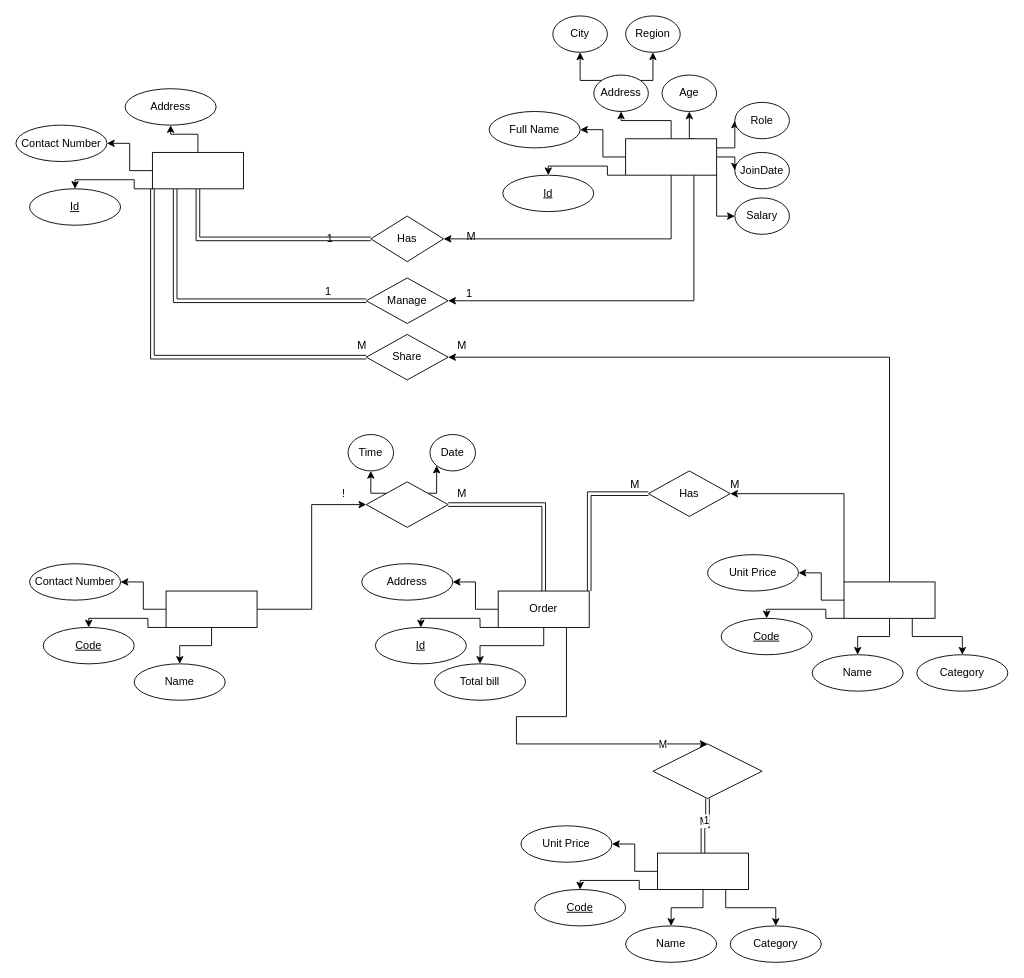
Image size: 1024x978. Some labels were removed from this diagram. Each missing label, with the centre of its shape:
"Branch" goes at (x=197, y=170).
"Customer" goes at (x=211, y=608).
"Deliver" goes at (x=707, y=771).
"Delivery boy" goes at (x=702, y=871).
"Item" goes at (x=889, y=599).
"Place" goes at (x=406, y=504).
"Staff Member" goes at (x=671, y=156).
